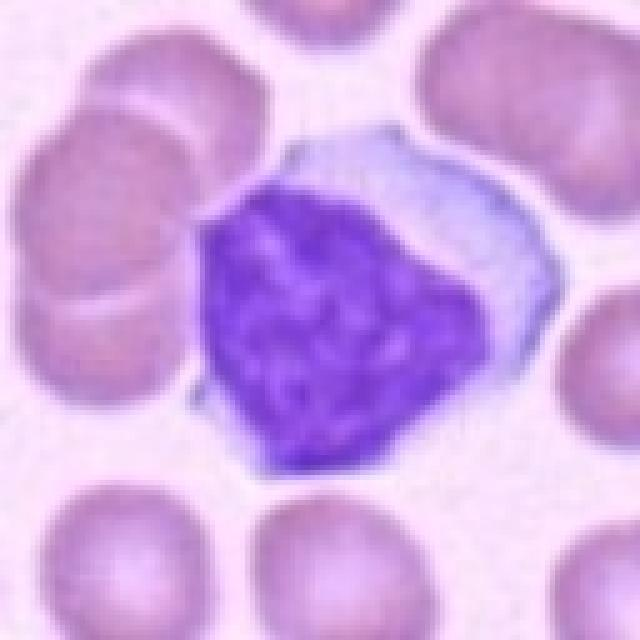lympho: (182, 116, 568, 486)
